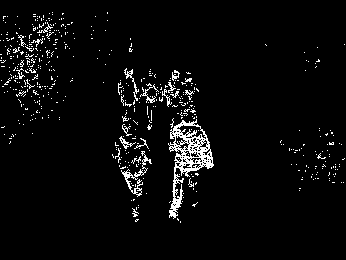person: (114, 116, 158, 219), (173, 108, 210, 223), (120, 64, 139, 114), (186, 68, 204, 120), (146, 65, 162, 118), (168, 69, 178, 117)
